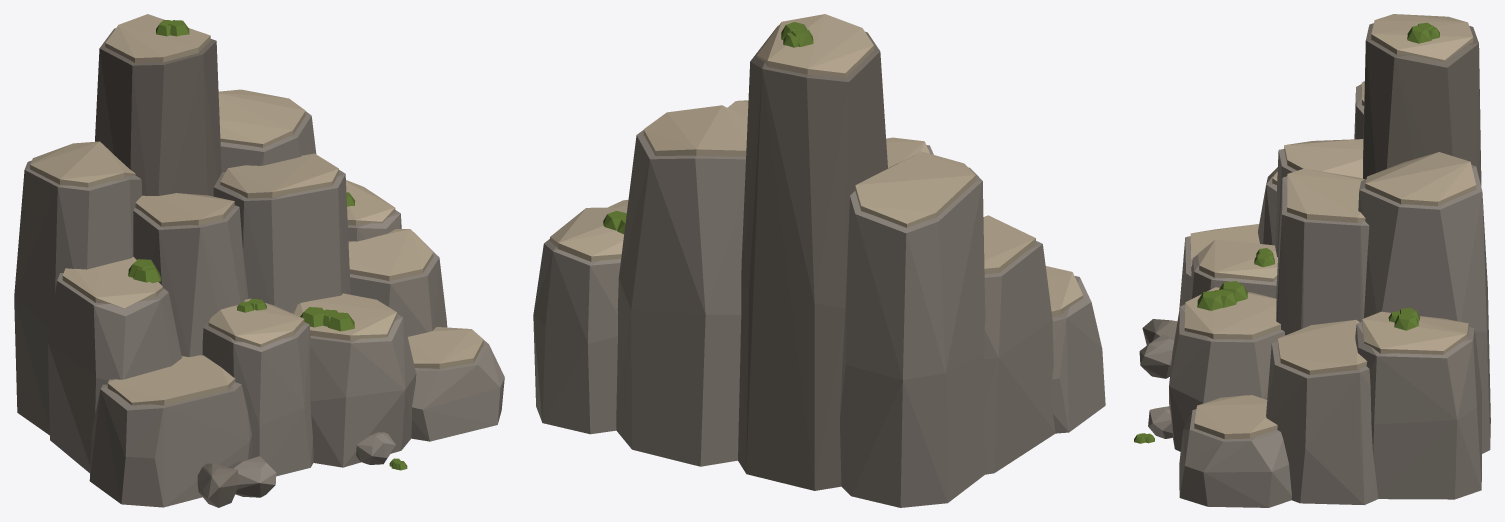
Rendered from Cliff_A.fbx.
The picture shows the model from 3 angles, left to right: view 1: azimuth 30°, elevation 25°; view 2: azimuth 150°, elevation 25°; view 3: azimuth 270°, elevation 25°; orthographic projection. The views are drawn at different scales.
Parts seen in each view (by area): view 1: Cliff, RockLight, CliffDark, Moss; view 2: Cliff, CliffDark, RockLight, Moss; view 3: Cliff, RockLight, CliffDark, Moss.
Part boxes in pixels (x1=…): Cliff: x1=14, y1=111, x2=504, y2=507; RockLight: x1=30, y1=14, x2=483, y2=405; CliffDark: x1=95, y1=28, x2=239, y2=507; Moss: x1=128, y1=20, x2=407, y2=470; Cliff: x1=533, y1=107, x2=1105, y2=507; CliffDark: x1=738, y1=25, x2=887, y2=490; RockLight: x1=550, y1=14, x2=1083, y2=316; Moss: x1=603, y1=22, x2=813, y2=234; Cliff: x1=1139, y1=84, x2=1490, y2=507; RockLight: x1=1184, y1=14, x2=1476, y2=439; CliffDark: x1=1142, y1=23, x2=1481, y2=345; Moss: x1=1134, y1=22, x2=1439, y2=443.
Size of the model in its own units: 16.42 by 14.89 by 13.04.
